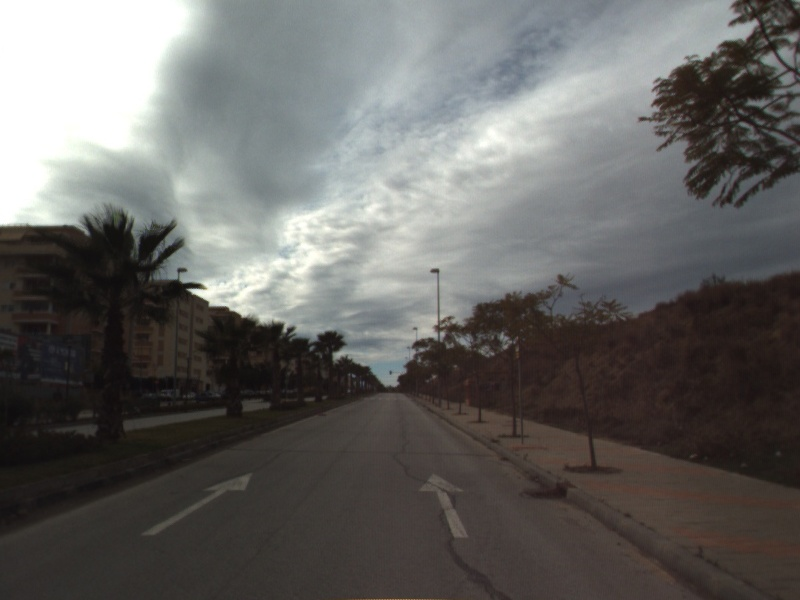STRAIGHT: (139, 470, 255, 538), (416, 470, 471, 540)
